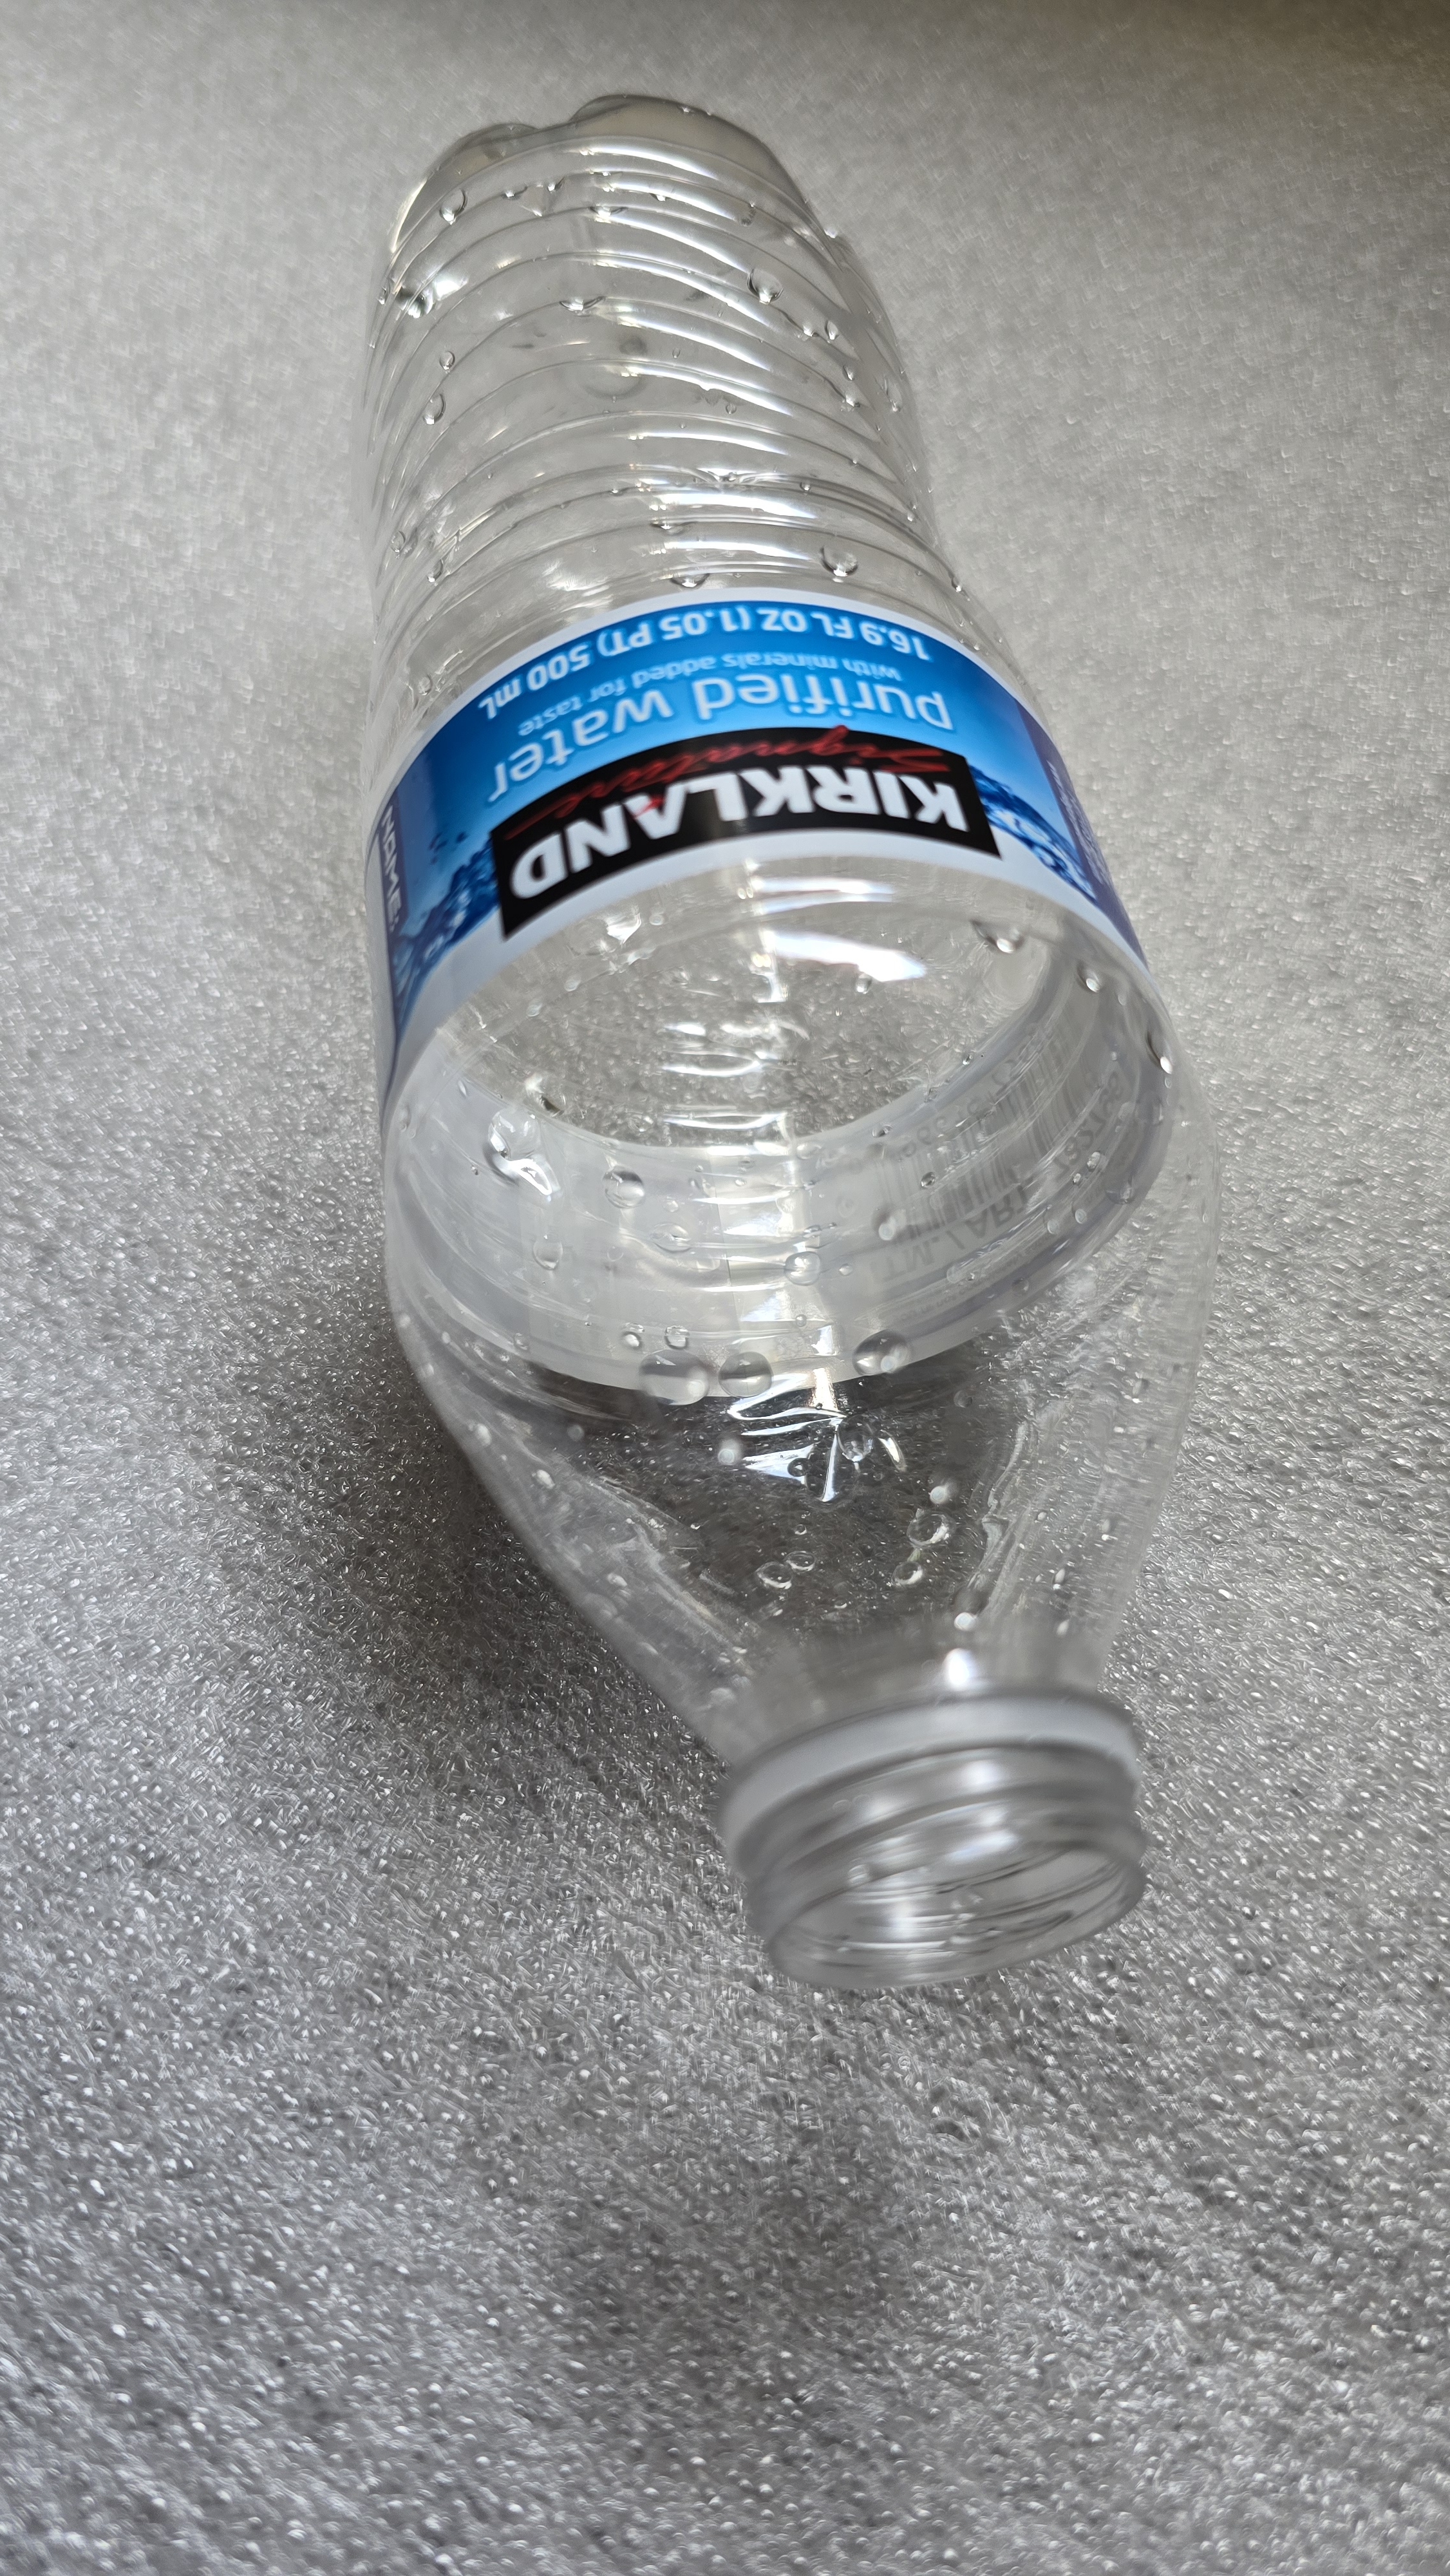bottle: (354, 78, 1268, 1967)
